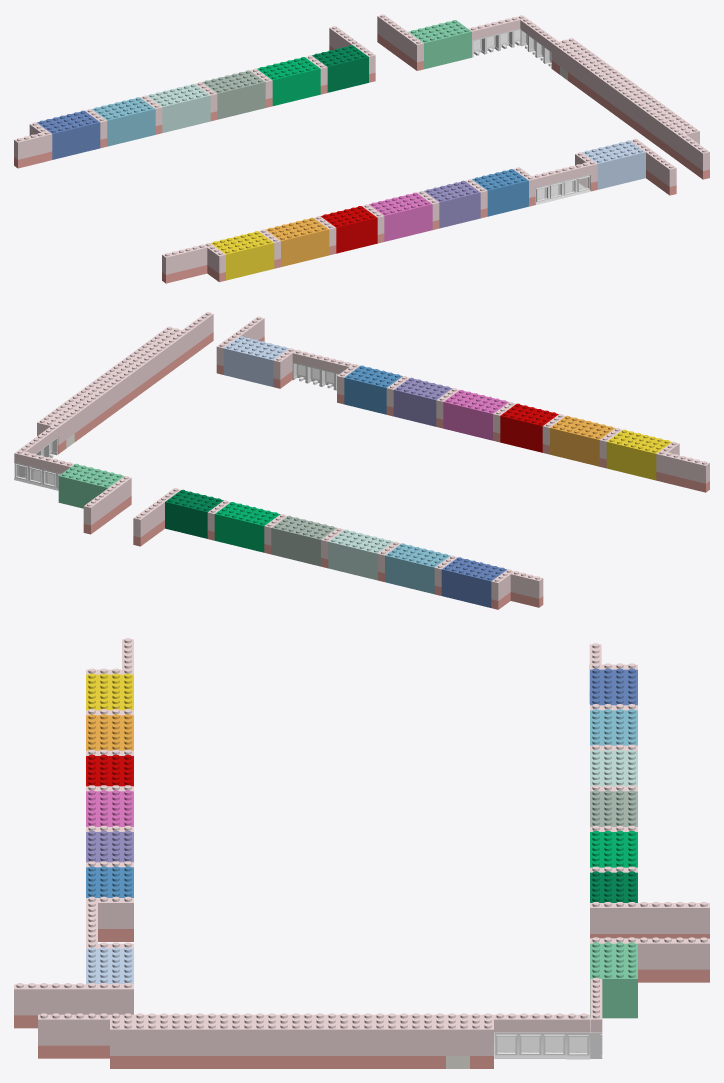
The model's file is Restaurantboxes.fbx.
3 renders of one model, top to bottom at view 1: azimuth 30°, elevation 25°; view 2: azimuth 150°, elevation 25°; view 3: azimuth 270°, elevation 25°, orthographic. The views are drawn at different scales.
Parts seen in each view (by area): view 1: restaurantsboxs; view 2: restaurantsboxs; view 3: restaurantsboxs.
Part boxes in pixels (<box>): restaurantsboxs: <box>14,14,709,283</box>; restaurantsboxs: <box>14,312,709,609</box>; restaurantsboxs: <box>14,638,709,1068</box>.
Bounding box in the file's own units: 154000 × 7643 × 116000.
